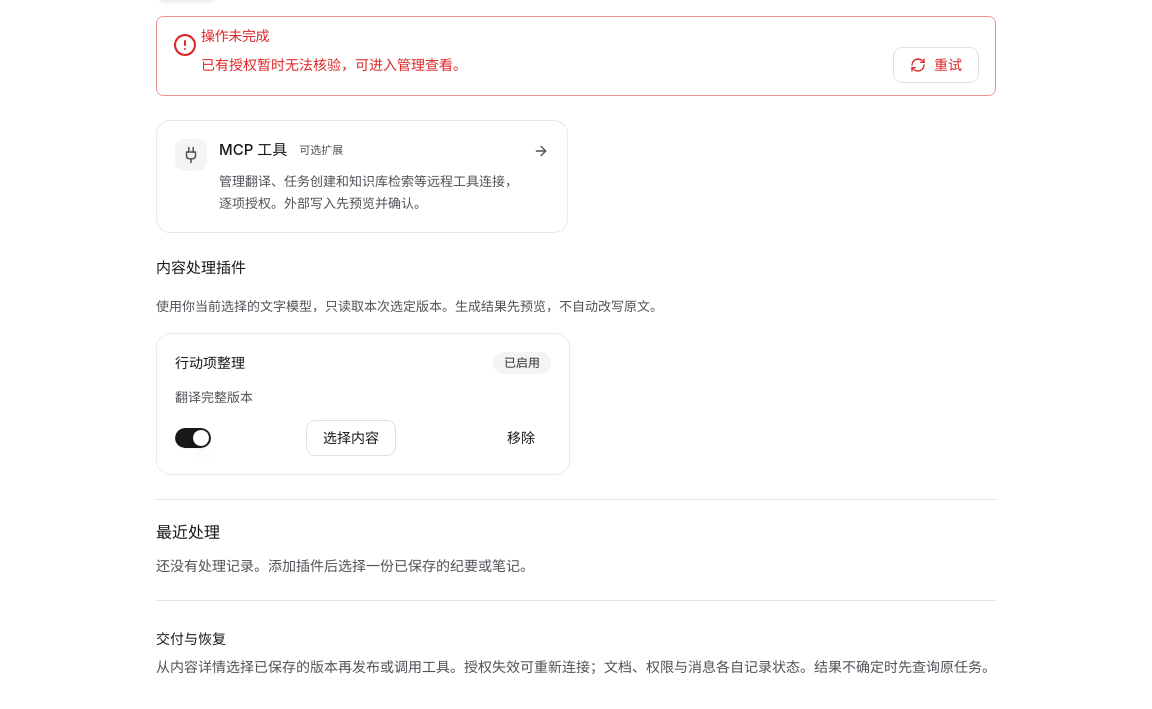
Test case: does not expose source choices from a workspace cache belonging to the previous owner
(page scrolled)
Click the button "选择内容": (351, 438) [306,420,396,456]
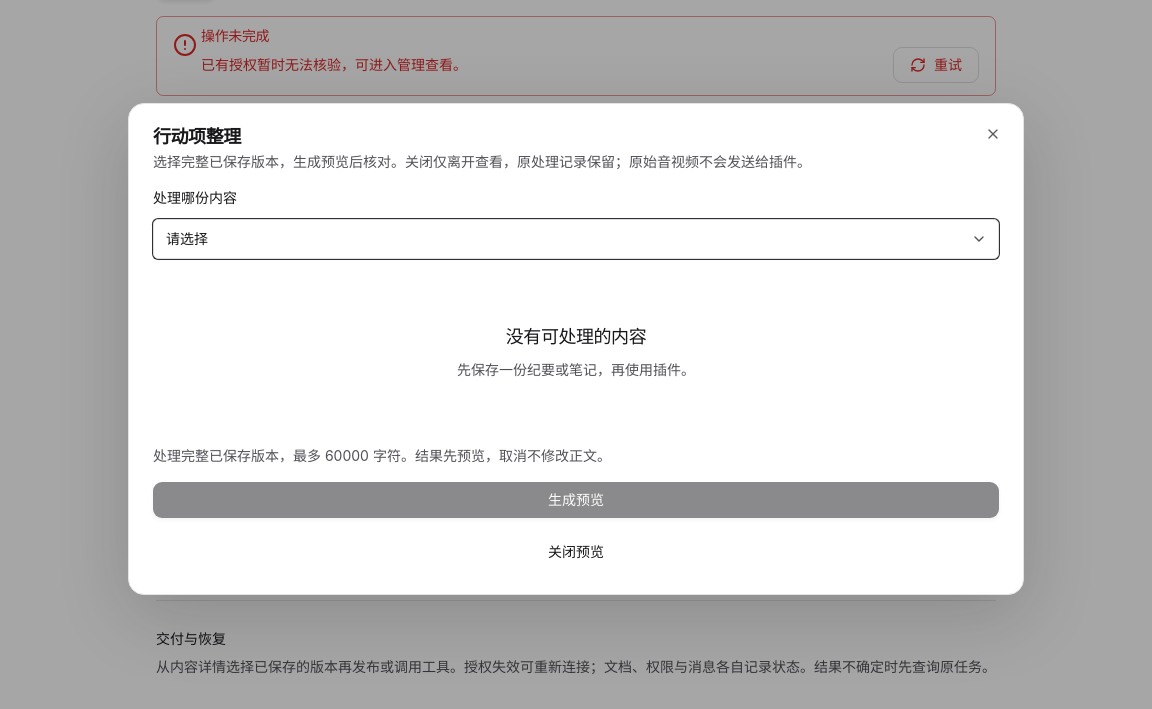
Now the button "生成预览" is disabled, box [153,482,999,518]
